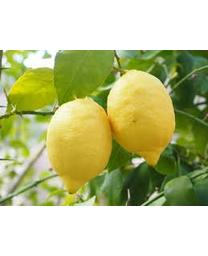lemon: (107, 68, 174, 165), (48, 98, 114, 194)
